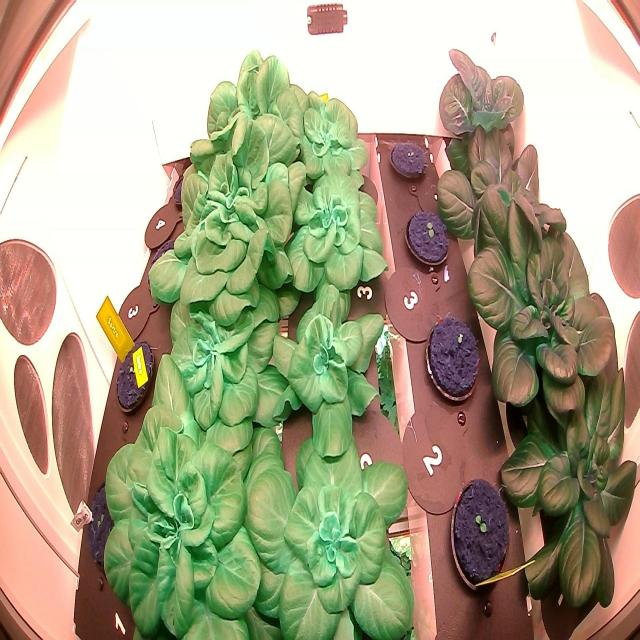germination: (436, 468, 519, 600), (419, 307, 489, 413), (82, 468, 136, 574), (400, 200, 458, 281), (385, 129, 438, 190)
pod: (107, 326, 162, 421)
young: (92, 344, 288, 640), (462, 176, 634, 440), (487, 348, 640, 640), (238, 396, 418, 640), (148, 116, 308, 340), (154, 272, 296, 454), (260, 278, 388, 472), (427, 104, 570, 260), (187, 33, 322, 188), (273, 148, 392, 315), (431, 36, 535, 192), (294, 82, 374, 204)
